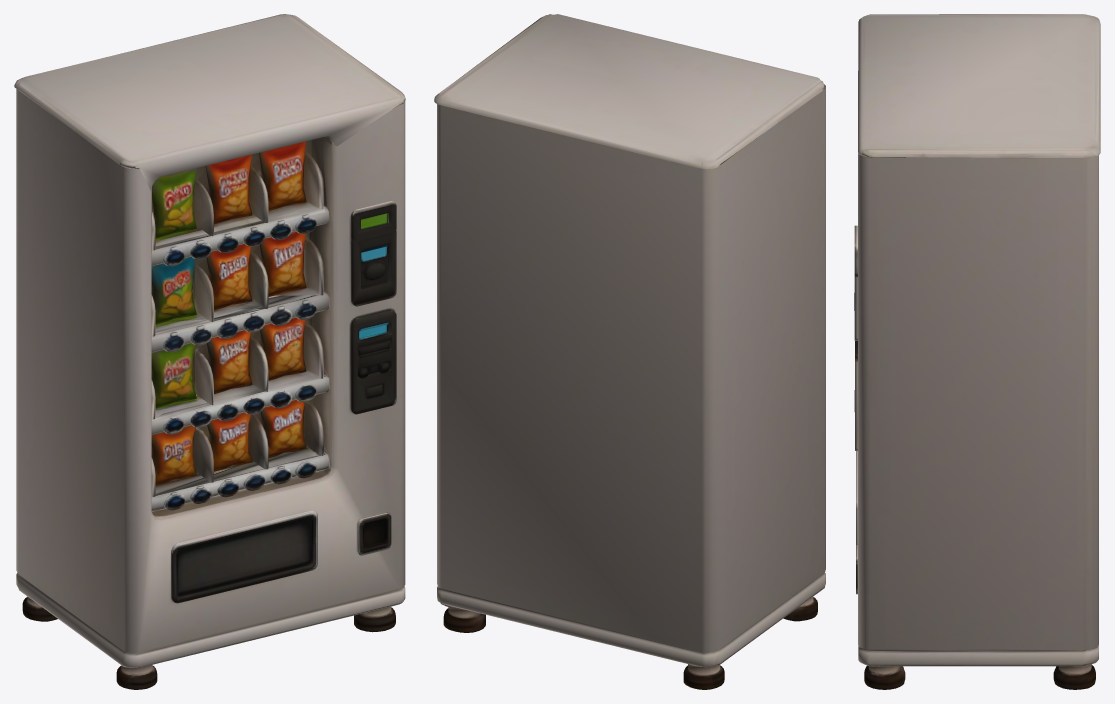
The model's file is V_Machine_2.glb.
3 views of the same model, side by side, from view 1: azimuth 30°, elevation 25°; view 2: azimuth 150°, elevation 25°; view 3: azimuth 270°, elevation 25° (orthographic).
Visible parts, largest first — view 1: material; view 2: material; view 3: material.
Part boxes in pixels (<box>): material: <box>14,14,405,689</box>; material: <box>434,14,825,689</box>; material: <box>854,14,1100,689</box>.
Bounding box in the file's own units: 1.06 × 1.91 × 0.7882.
1 material, 1 textured.
